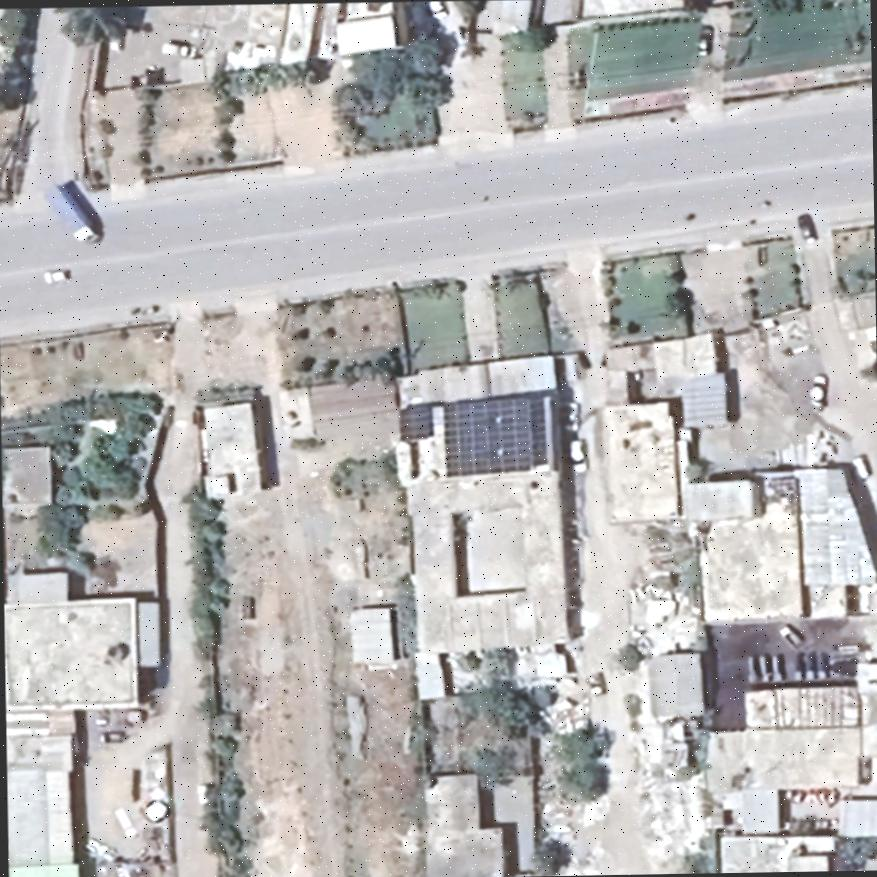Solarpanel: (436, 386, 546, 482), (393, 396, 439, 447)
